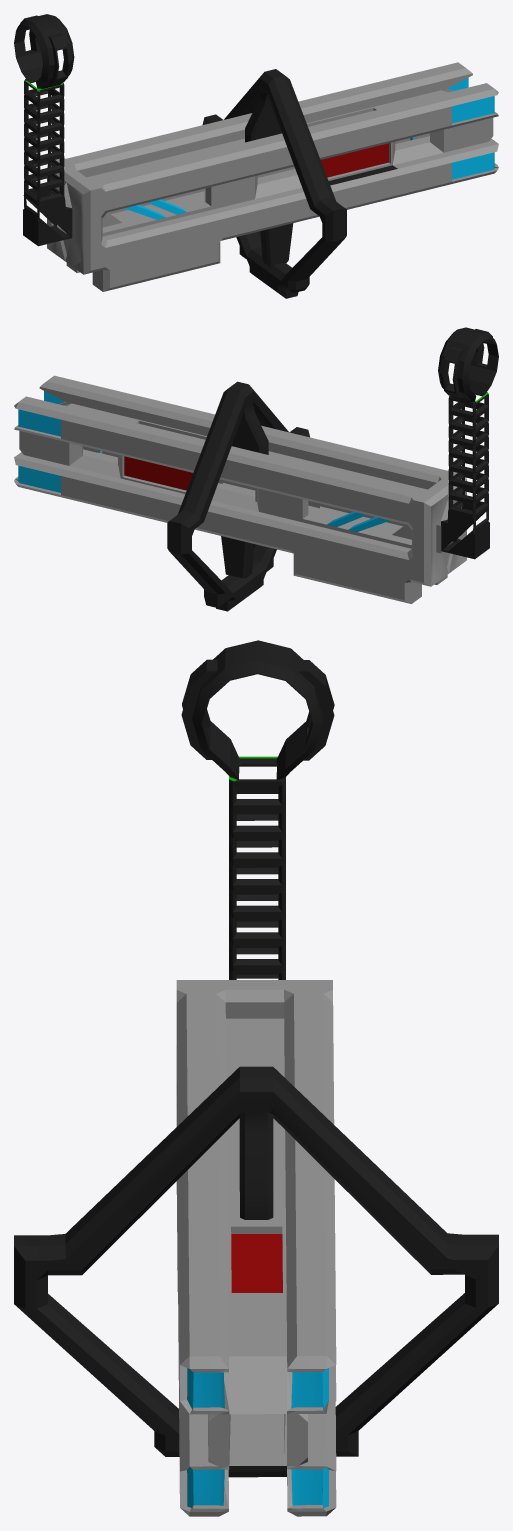
Rendered from gun.FBX.
3 views of the same model, one above another, from view 1: azimuth 30°, elevation 25°; view 2: azimuth 150°, elevation 25°; view 3: azimuth 270°, elevation 25° (orthographic). The views are drawn at different scales.
Parts seen in each view (by area): view 1: Gun; view 2: Gun; view 3: Gun.
Part boxes in pixels (<box>): Gun: <box>14,14,498,298</box>; Gun: <box>14,327,498,611</box>; Gun: <box>14,640,498,1516</box>.
Size of the model in its own units: 54.84 by 37.28 by 26.92.
